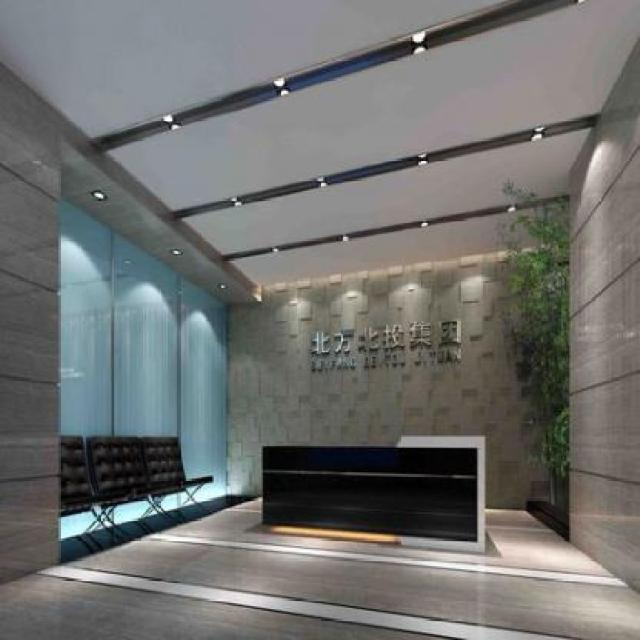frontdesk: (242, 415, 496, 563)
